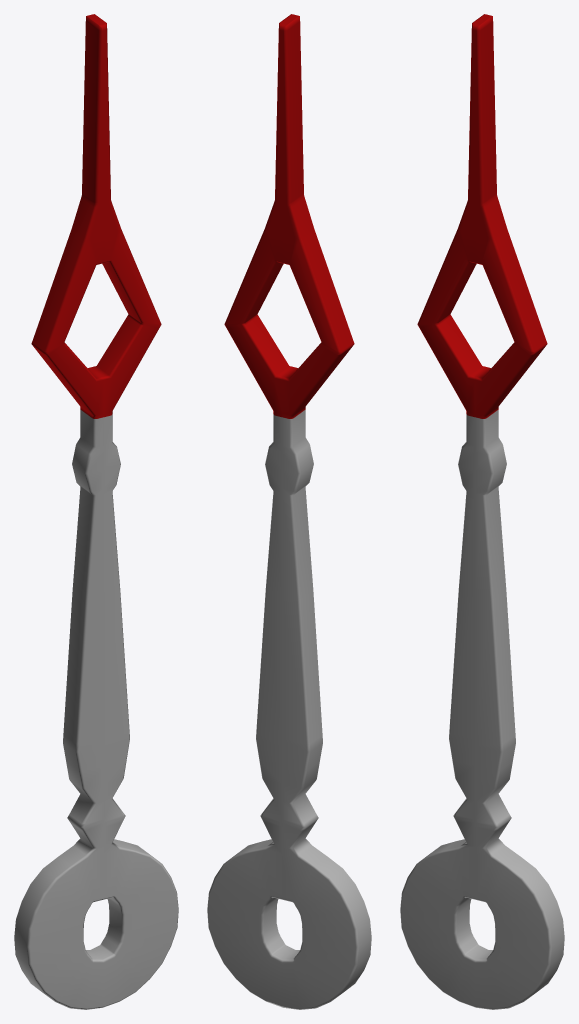
Rendered from MinuteHand2_low.fbx.
The picture shows the model from 3 angles, left to right: view 1: azimuth 30°, elevation 25°; view 2: azimuth 150°, elevation 25°; view 3: azimuth 330°, elevation 25°; orthographic projection.
Visible parts, largest first — view 1: MinuteHand_2_low; view 2: MinuteHand_2_low; view 3: MinuteHand_2_low.
Part boxes in pixels (left/top/right/bottom): MinuteHand_2_low: left=14, top=14, right=178, bottom=1009; MinuteHand_2_low: left=207, top=14, right=371, bottom=1009; MinuteHand_2_low: left=400, top=14, right=564, bottom=1009.
Bounding box in the file's own units: 324 × 2006 × 55.63.
